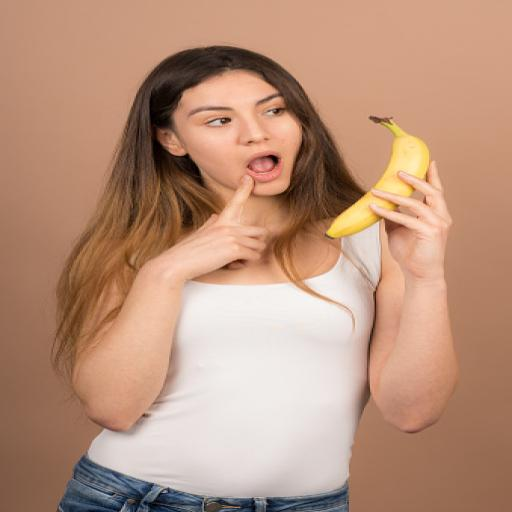banana: (369, 116, 428, 196)
